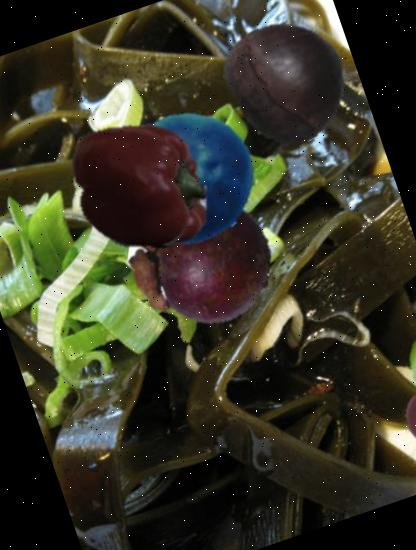Chestnut: (210, 2, 369, 161)
Huckleberry: (106, 91, 274, 259)
Mangostan: (109, 168, 291, 350)
Pepper: (52, 98, 228, 274)
Redcurrant: (398, 379, 416, 460)
